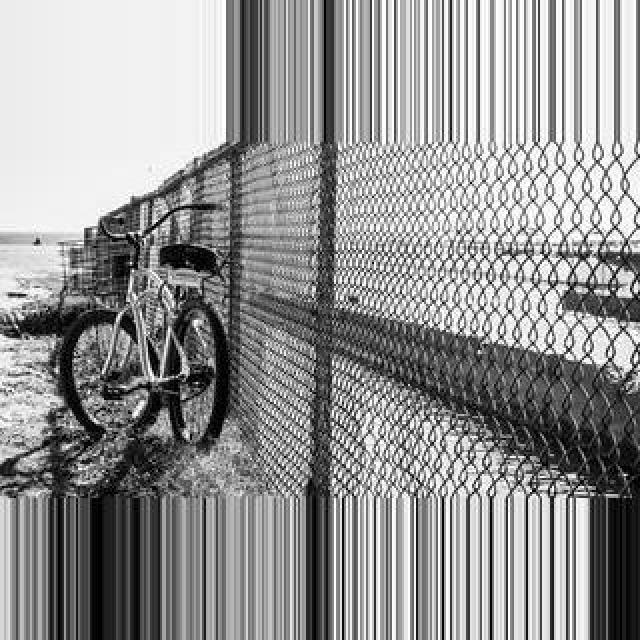Person: (58, 220, 228, 448)
